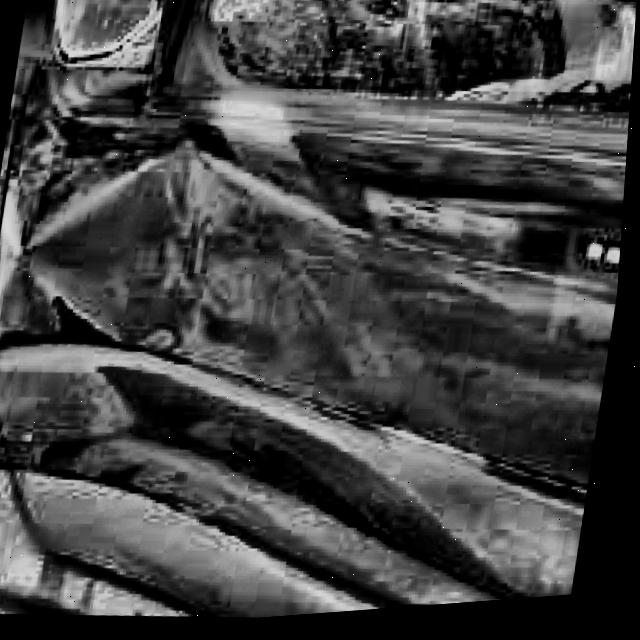door_dent: (33, 131, 250, 369)
